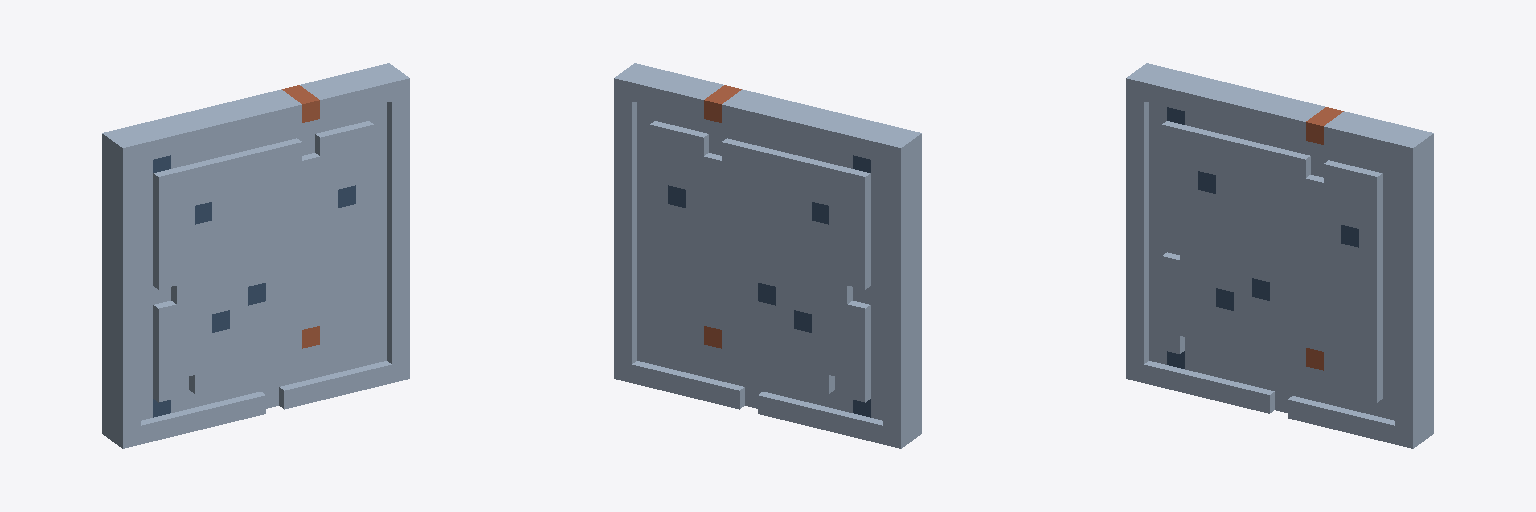
The model's file is floor.obj.
The picture shows the model from 3 angles: view 1: azimuth 30°, elevation 25°; view 2: azimuth 150°, elevation 25°; view 3: azimuth 330°, elevation 25°; orthographic projection.
Bounding box in the file's own units: 16 × 16 × 2.